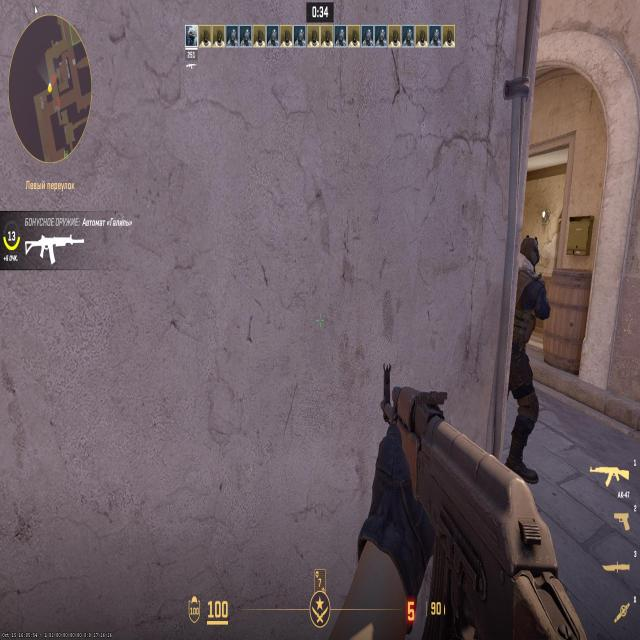CT: (511, 237, 534, 444)
CT_heat: (524, 246, 531, 267)
